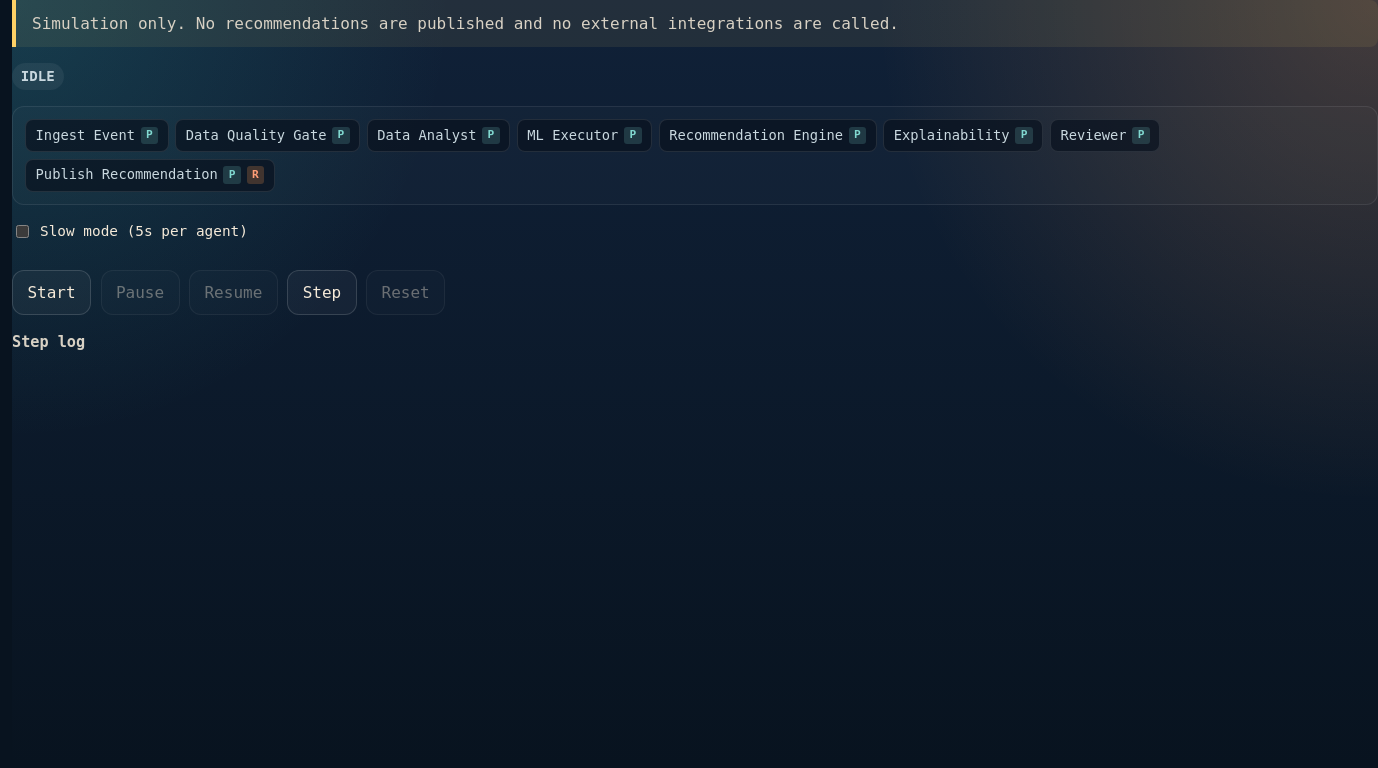
Test: FlowSimulator › renders dynamic office feedback with all agents visible
Click the button "Step": (322, 292) x1=287 y1=270 x2=357 y2=315
(page scrolled)
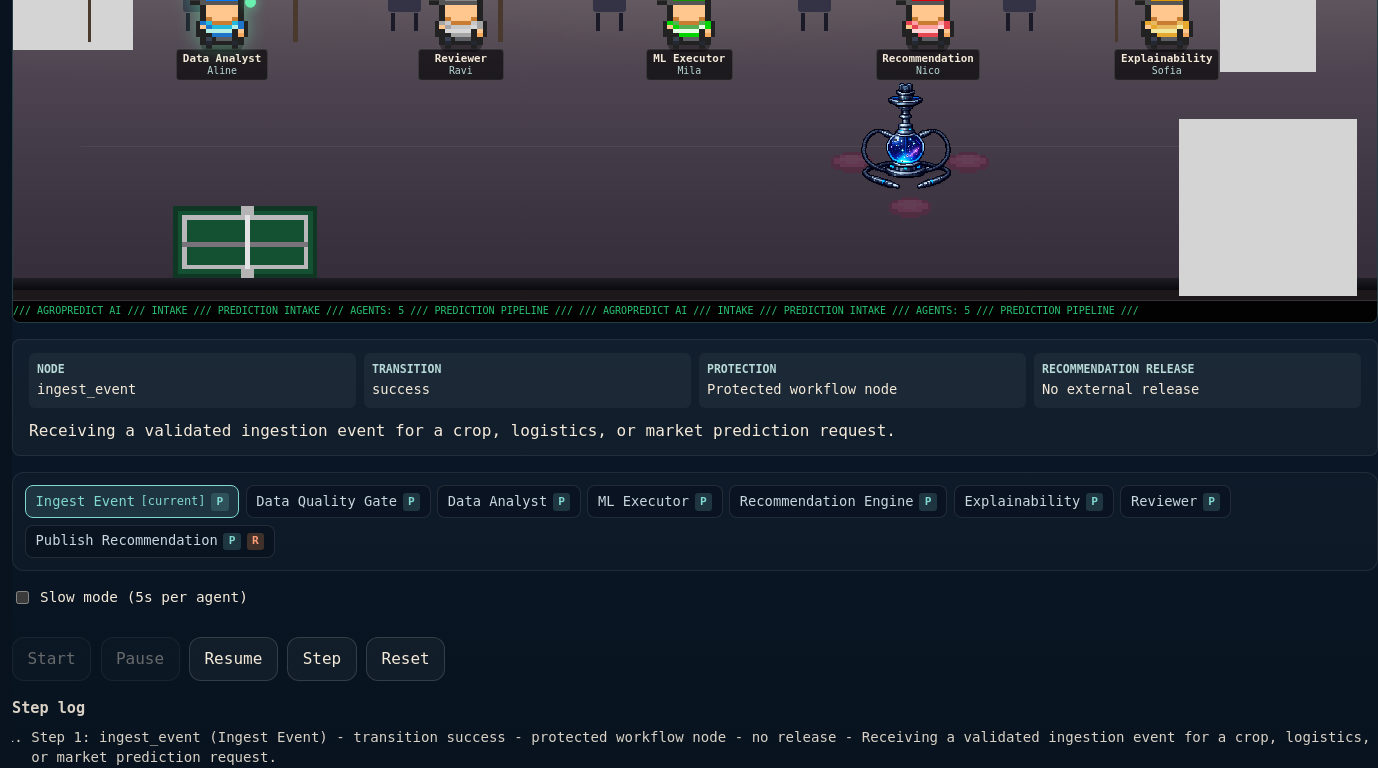
expect the text "Protected workflow node" is shown: met, box x1=707 y1=381 x2=897 y2=397
expect the text "No external release" is shown: met, box x1=1042 y1=381 x2=1199 y2=397
expect the 3rd list shows "ingest_event": met, box x1=31 y1=729 x2=1370 y2=765
